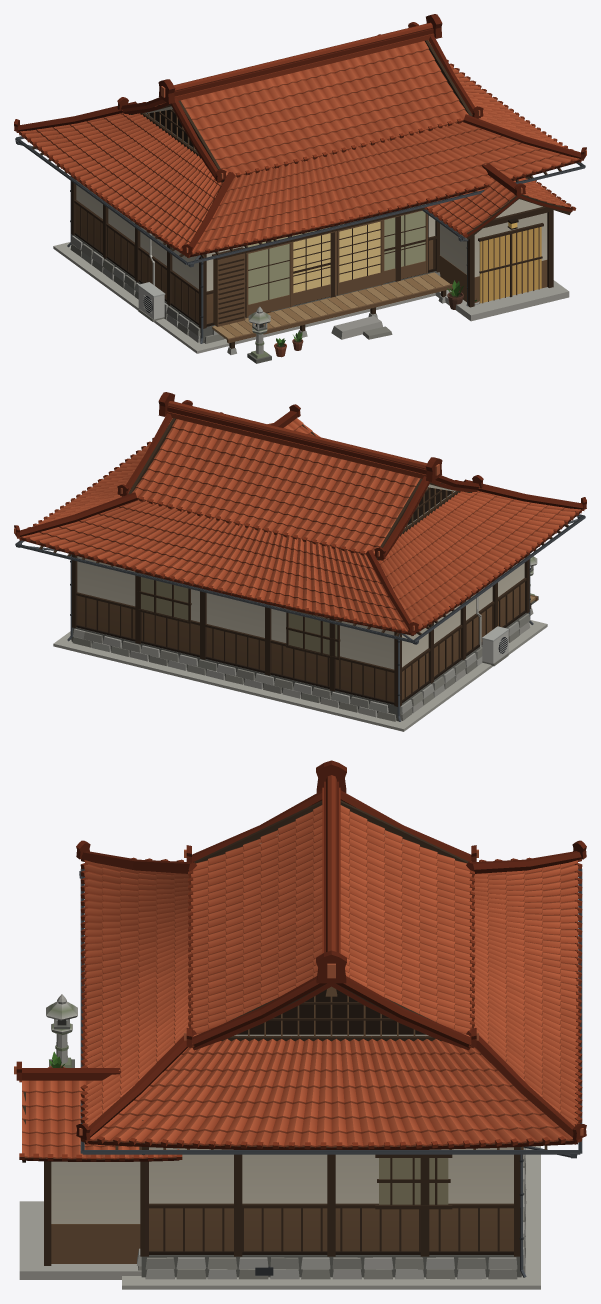
The model's file is minka_sekishu.glb.
3 renders of one model, top to bottom at view 1: azimuth 30°, elevation 25°; view 2: azimuth 150°, elevation 25°; view 3: azimuth 270°, elevation 25°, orthographic. The views are drawn at different scales.
Visible parts, largest first — view 1: minka_sekishu; view 2: minka_sekishu; view 3: minka_sekishu.
Boxes of the visible parts, <box> form: minka_sekishu: <box>14,14,586,363</box>; minka_sekishu: <box>14,392,586,731</box>; minka_sekishu: <box>14,760,586,1289</box>.
Bounding box in the file's own units: 12.77 × 6.35 × 10.74.
